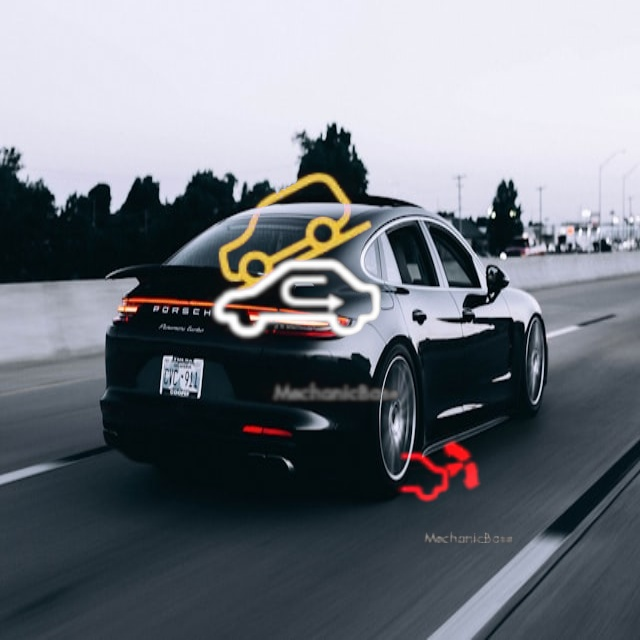symbol: (188, 191, 408, 411), (197, 141, 395, 339), (363, 395, 519, 551)
